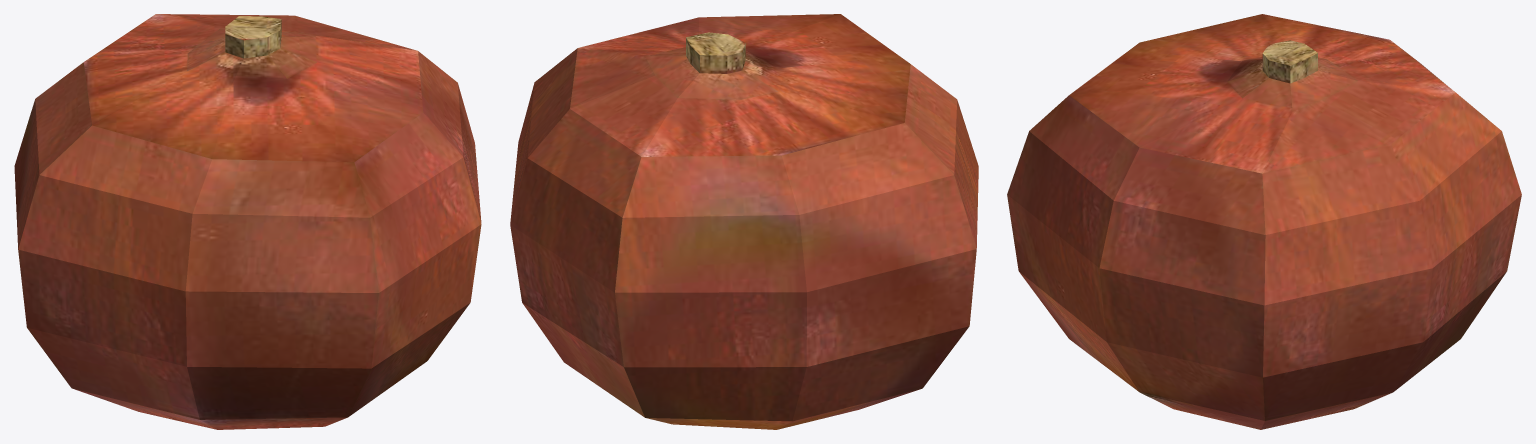
File: pumpkin.glb
The picture shows the model from 3 angles, left to right: view 1: azimuth 30°, elevation 25°; view 2: azimuth 150°, elevation 25°; view 3: azimuth 270°, elevation 25°; orthographic projection. The views are drawn at different scales.
Visible parts, largest first — view 1: Pumpkin; view 2: Pumpkin; view 3: Pumpkin.
Boxes of the visible parts, bbox=[...] form: Pumpkin: bbox=[14, 14, 481, 429]; Pumpkin: bbox=[510, 14, 978, 429]; Pumpkin: bbox=[1007, 14, 1521, 429].
Bounding box in the file's own units: 0.5347 × 0.3978 × 0.5362.
Materials: 1 (1 with a texture image).
